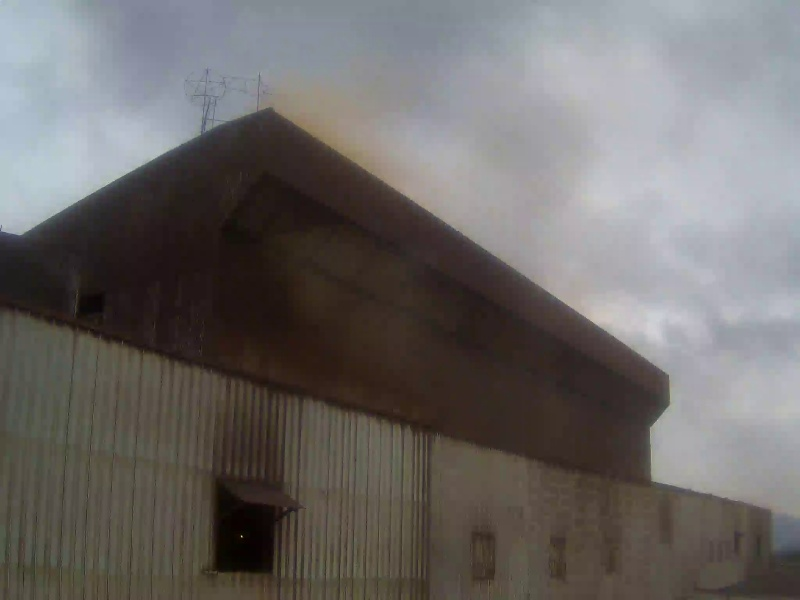bom: (587, 110, 794, 385), (20, 22, 245, 143)
ruim: (266, 54, 470, 234)
